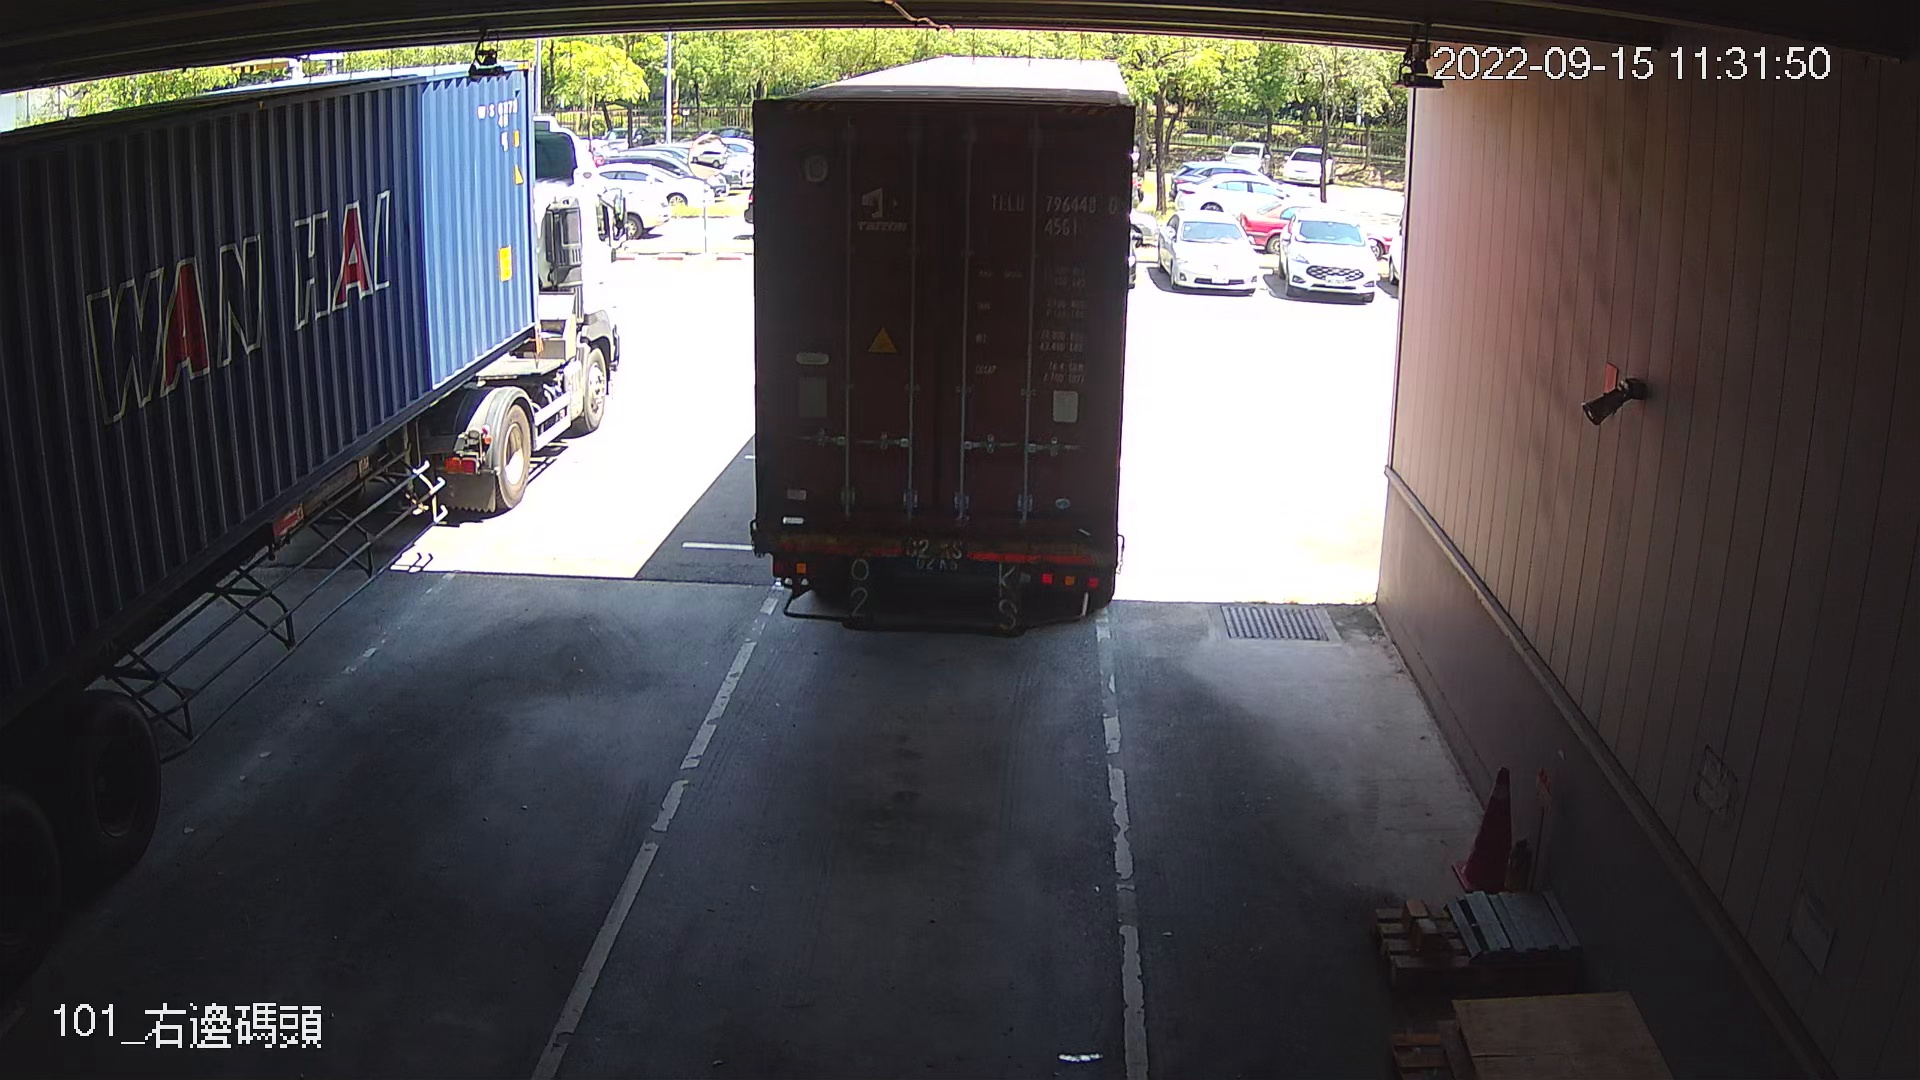container: (981, 183, 1122, 244)
